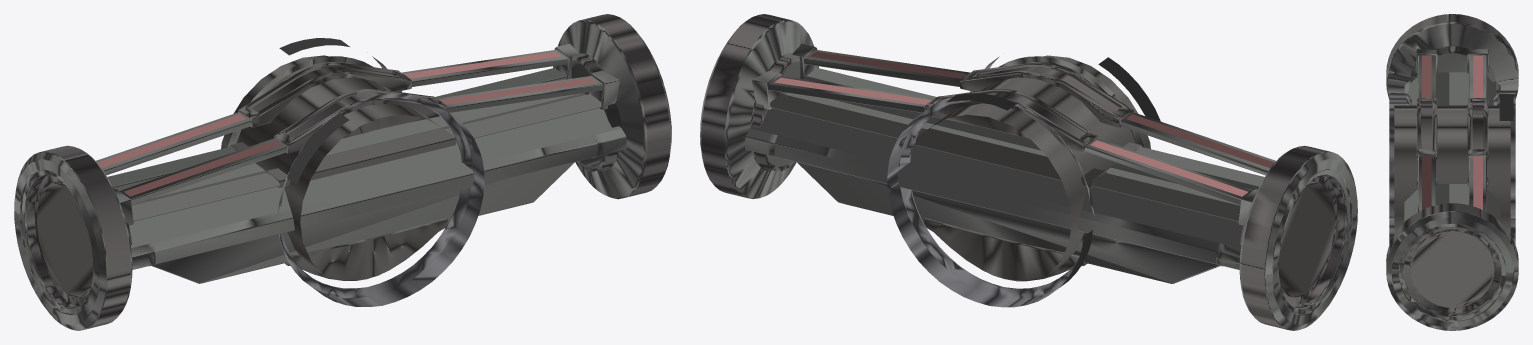
The model's file is solar_panel_connectorpivot_a.glb.
The picture shows the model from 3 angles, left to right: view 1: azimuth 30°, elevation 25°; view 2: azimuth 150°, elevation 25°; view 3: azimuth 270°, elevation 25°; orthographic projection. The views are drawn at different scales.
Bounding box in the file's own units: 130 × 43.43 × 36.18.
